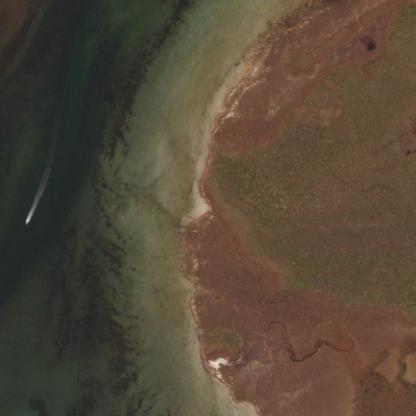ship: (24, 221, 27, 223)
